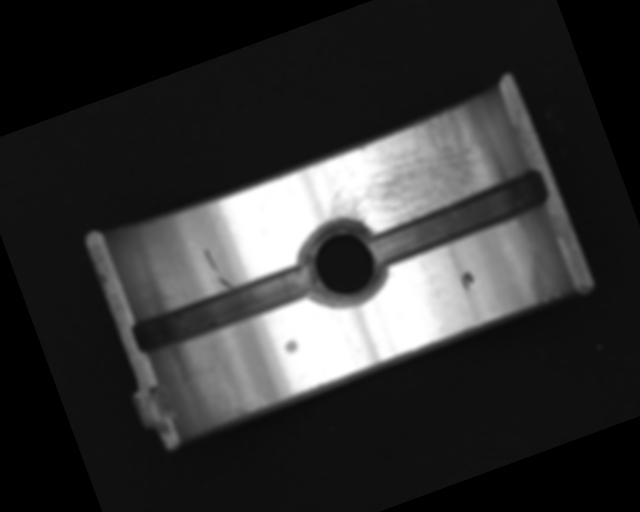blot: (458, 269, 476, 292)
bruise: (282, 337, 300, 356)
gap: (127, 258, 319, 360), (364, 168, 553, 270)
hole: (288, 207, 395, 318)
nick: (202, 245, 233, 296)
scratch: (305, 103, 497, 250)
